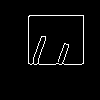U: (25, 25, 77, 81)
